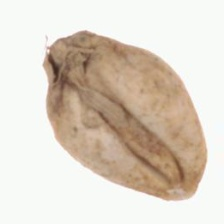L1: (39, 29, 93, 97), (146, 160, 200, 202)
L2: (41, 30, 208, 202)
